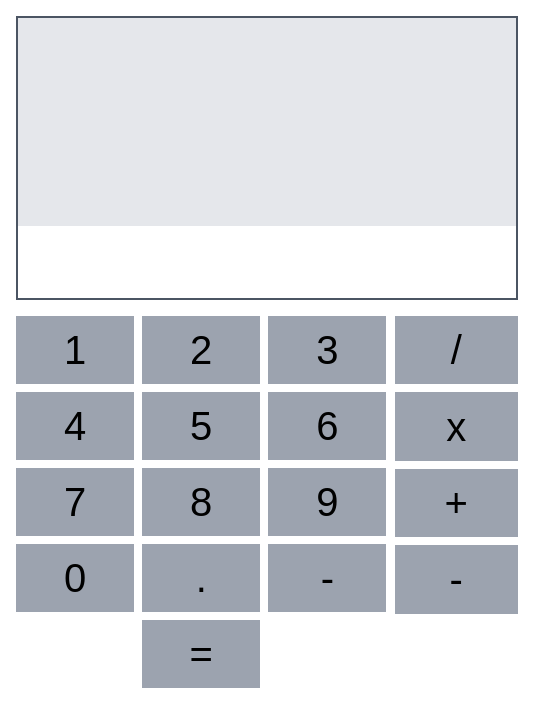
Test case: Tests Page › calculator › should do the operations correctly › addition
Click the button "1": coordinates (75, 350) top-left (16, 316), bottom-right (134, 384)
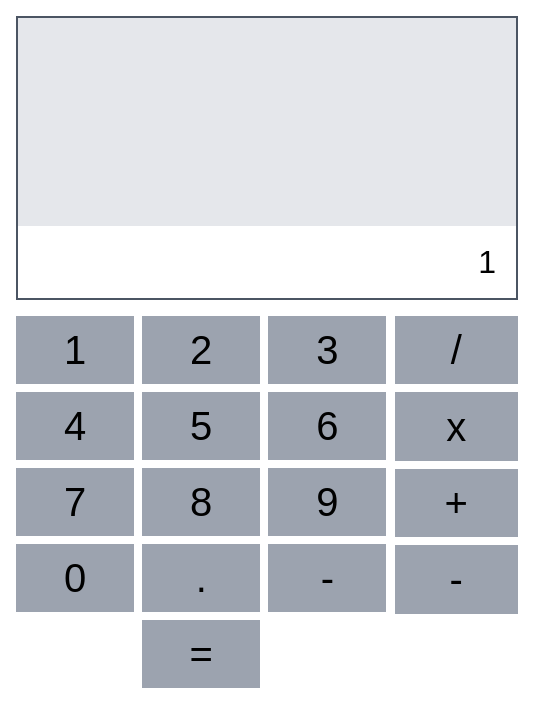
Click the button "+": coordinates (457, 503) top-left (395, 469), bottom-right (519, 537)
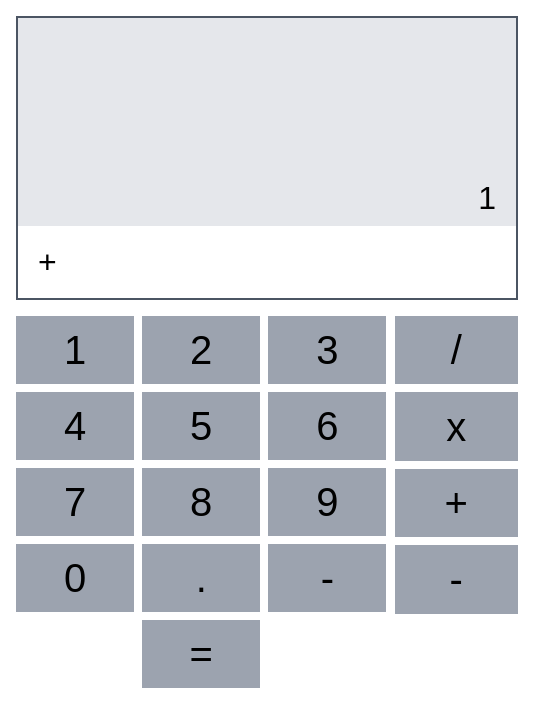
Click the button "2": coordinates (201, 350) top-left (142, 316), bottom-right (260, 384)
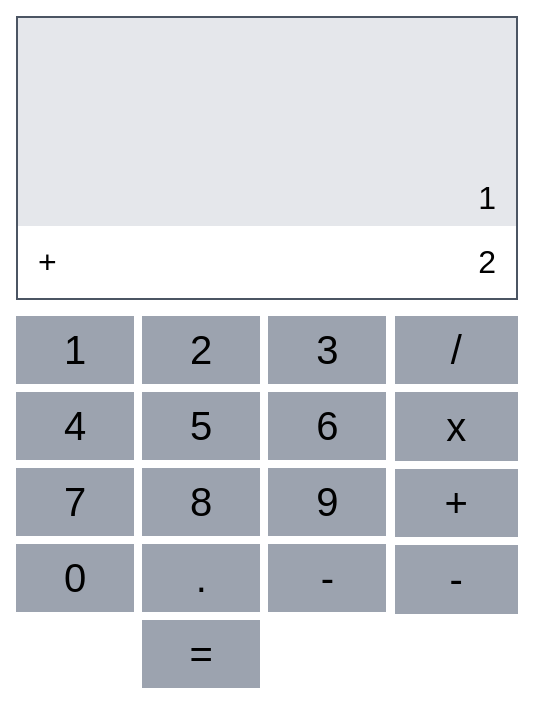
Click the button "=": coordinates (201, 654) top-left (142, 620), bottom-right (260, 688)
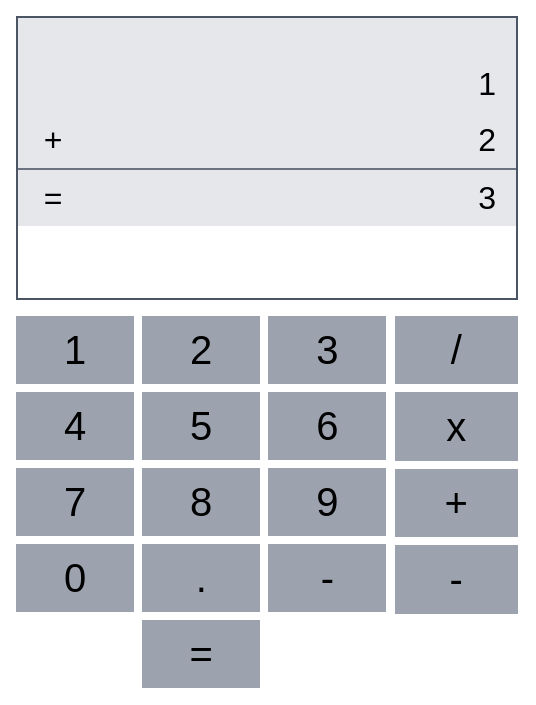
Expected: the list item "= 3" is shown, top-left (18, 168), bottom-right (516, 226)
